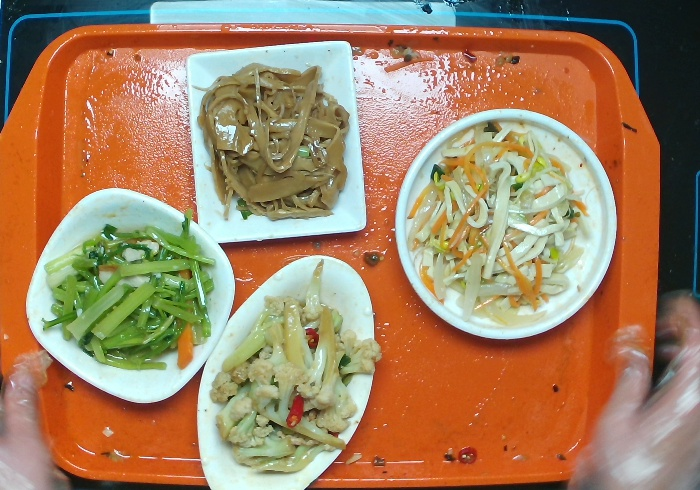HZYJPL-Si_Fang_Die: (184, 41, 369, 246)
HZYJPL-Si_Fang_Yuan_Die: (22, 185, 236, 411)
HZYJPL-Xiao_Yu_Die: (195, 254, 377, 490)
HZYJPL-Xiao_Yuan_Die: (390, 108, 619, 344)
